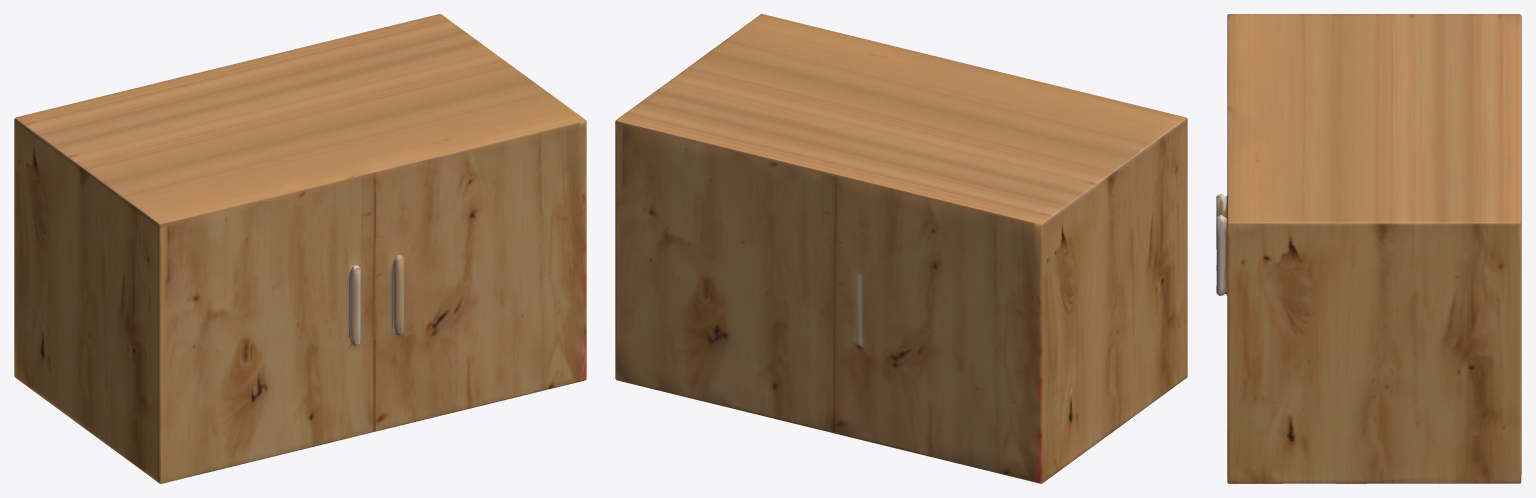
File: PlacardSdb4_3D_textured.glb
3 renders of one model, left to right at view 1: azimuth 30°, elevation 25°; view 2: azimuth 150°, elevation 25°; view 3: azimuth 270°, elevation 25°, orthographic.
Parts seen in each view (by area): view 1: temp_mesh.ply; view 2: temp_mesh.ply; view 3: temp_mesh.ply.
Part boxes in pixels (bbox=[...]): temp_mesh.ply: bbox=[14, 14, 586, 483]; temp_mesh.ply: bbox=[615, 14, 1187, 483]; temp_mesh.ply: bbox=[1216, 14, 1521, 483].
Size of the model in its own units: 1.97 by 1.15 by 1.22.
1 material, 1 textured.
